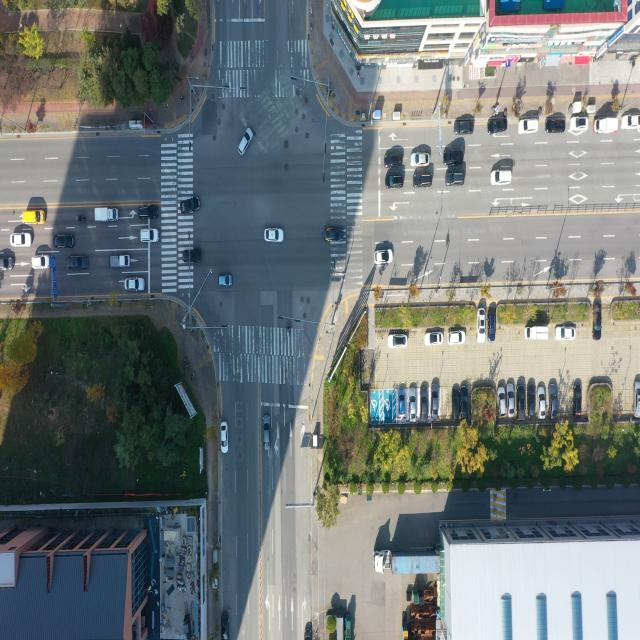car: (239, 128, 254, 157), (178, 198, 200, 216), (408, 386, 418, 424), (24, 209, 47, 225), (418, 386, 428, 422), (324, 229, 345, 246), (526, 383, 536, 418), (593, 304, 603, 338), (550, 382, 559, 419), (451, 384, 460, 421), (183, 248, 202, 265), (55, 234, 75, 250), (12, 233, 32, 249), (491, 170, 511, 186), (388, 335, 408, 351), (140, 204, 160, 220), (430, 383, 439, 418), (266, 229, 285, 245), (520, 117, 539, 133), (556, 325, 576, 340), (488, 118, 508, 133), (622, 114, 640, 130), (376, 249, 394, 265), (68, 256, 88, 270), (140, 230, 160, 244), (546, 119, 566, 133), (461, 382, 468, 422), (478, 309, 486, 343), (127, 278, 145, 293), (397, 389, 407, 416), (424, 333, 443, 347), (518, 383, 526, 416), (538, 387, 546, 420), (412, 152, 430, 166), (265, 415, 272, 451), (386, 175, 404, 189), (448, 332, 466, 346), (445, 150, 464, 163), (455, 123, 474, 136), (488, 312, 496, 342), (570, 116, 587, 130), (447, 173, 465, 186), (220, 611, 228, 640), (506, 384, 513, 416), (220, 423, 227, 455), (415, 175, 432, 188), (634, 382, 640, 418), (33, 255, 48, 269), (498, 386, 505, 416), (384, 158, 404, 168), (218, 275, 233, 288), (574, 384, 580, 415), (0, 259, 13, 272)
large_truck: (372, 549, 443, 579)
small_truck: (94, 203, 119, 224), (594, 117, 618, 133), (524, 326, 548, 342), (109, 254, 129, 268)
